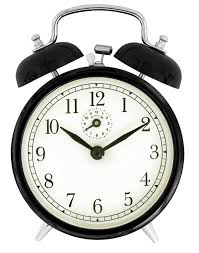alarm_clock: (10, 6, 186, 242), (22, 6, 186, 242)
